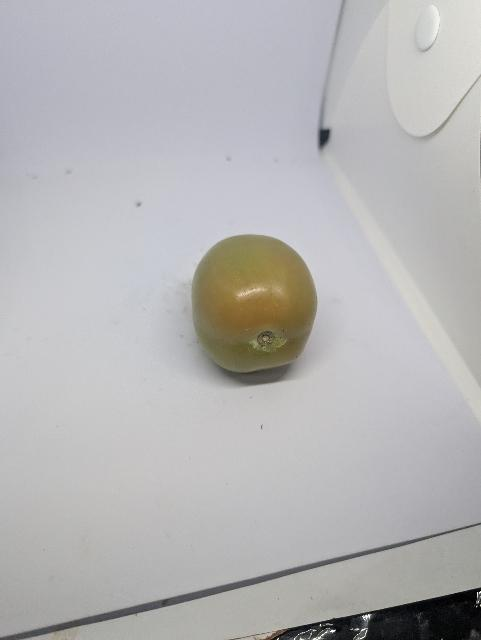breaker: (192, 229, 322, 385)
